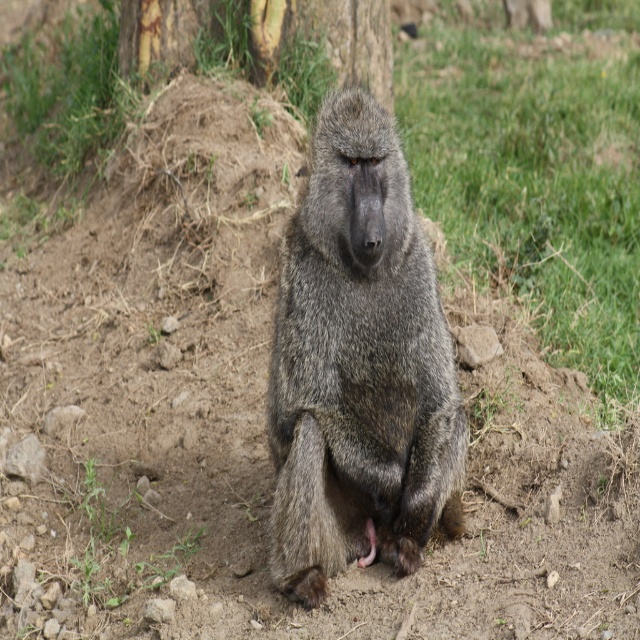Monkey: (260, 88, 470, 612)
